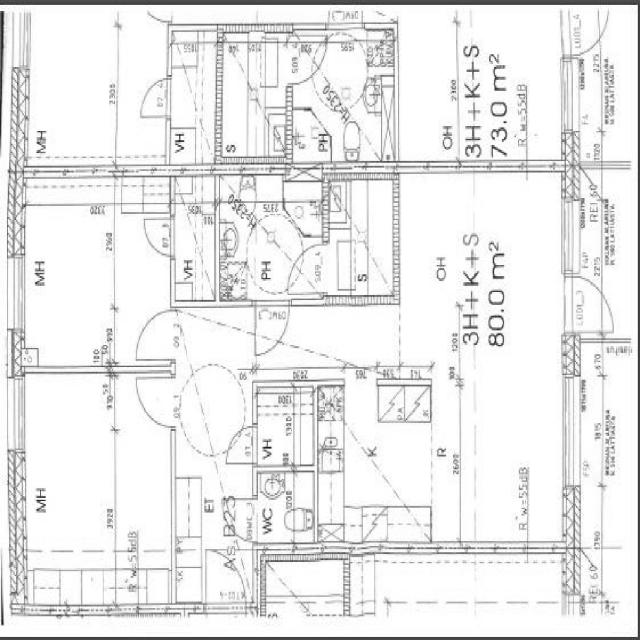door: (205, 546, 246, 617), (563, 276, 613, 334), (134, 310, 176, 360), (136, 377, 176, 426), (288, 244, 328, 292), (256, 298, 288, 352), (225, 498, 260, 537), (144, 219, 177, 256), (228, 427, 260, 461)
